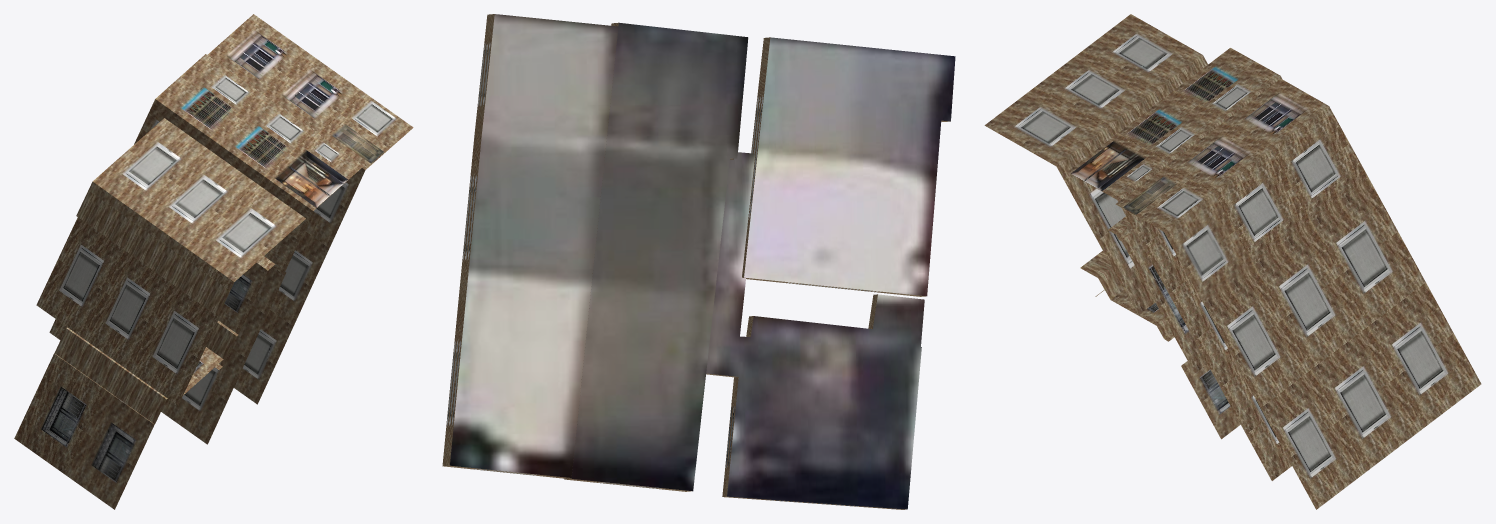
3 views of the same model, side by side, from view 1: azimuth 30°, elevation 25°; view 2: azimuth 150°, elevation 25°; view 3: azimuth 270°, elevation 25° (orthographic). The views are drawn at different scales.
Size of the model in its own units: 22.06 by 22.39 by 24.82.
Materials: 14 (14 with a texture image).
